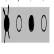correct: (28, 13, 35, 34)
no answer: (16, 12, 22, 33)
not correct: (2, 3, 12, 44)
